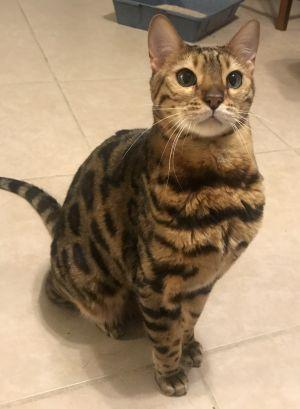bengal: (142, 6, 267, 148)
